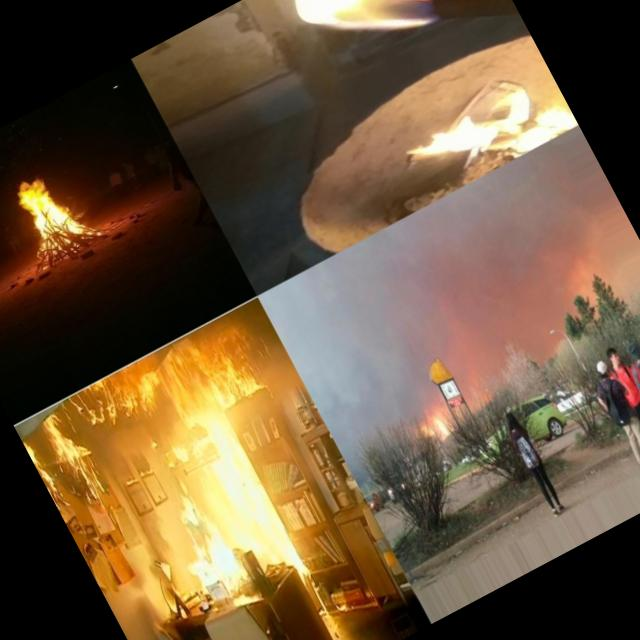fire: (90, 317, 352, 607), (402, 59, 578, 199), (239, 0, 469, 97), (20, 411, 116, 527), (1, 158, 94, 262), (425, 403, 455, 442)
